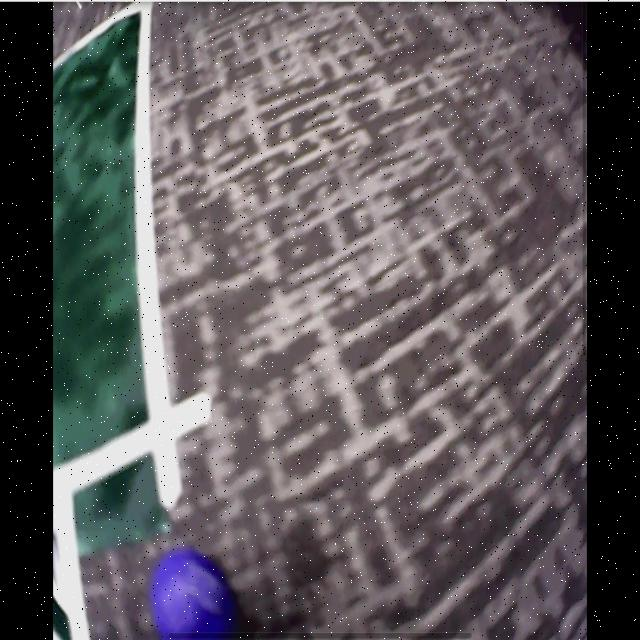ball: (155, 549, 233, 640)
